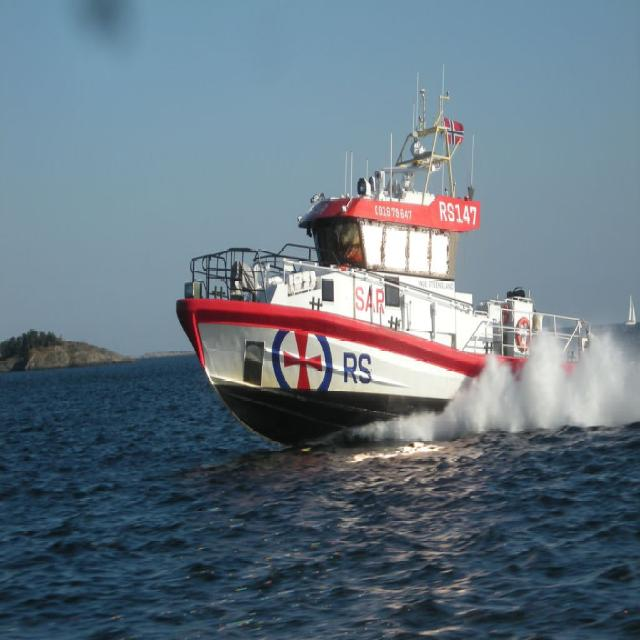Boat: (174, 73, 586, 453), (625, 297, 637, 329)
